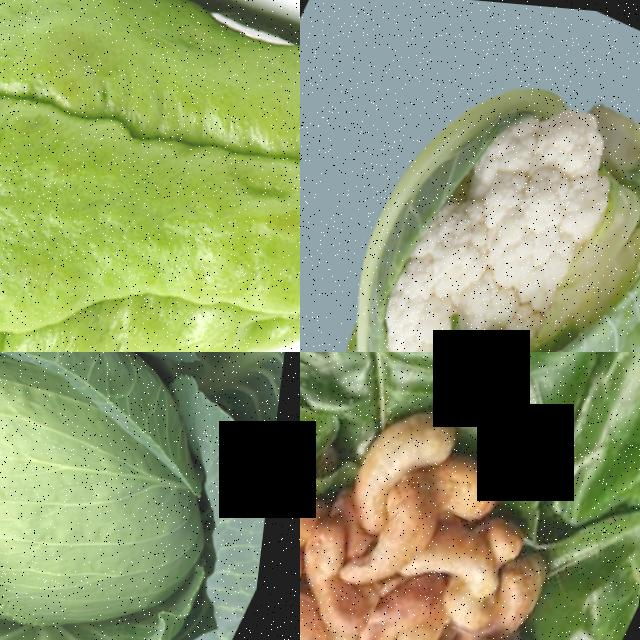cabbage: (0, 352, 297, 640)
cashew: (348, 460, 464, 617), (344, 369, 445, 515), (427, 517, 518, 603), (300, 569, 358, 640), (382, 582, 451, 640)
cauliflower: (300, 4, 640, 352)
chayote: (0, 0, 300, 352)
